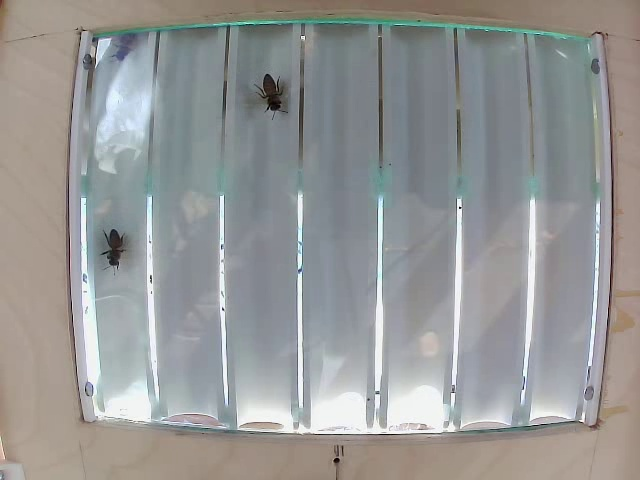bee: (102, 230, 149, 284), (249, 73, 283, 123)
